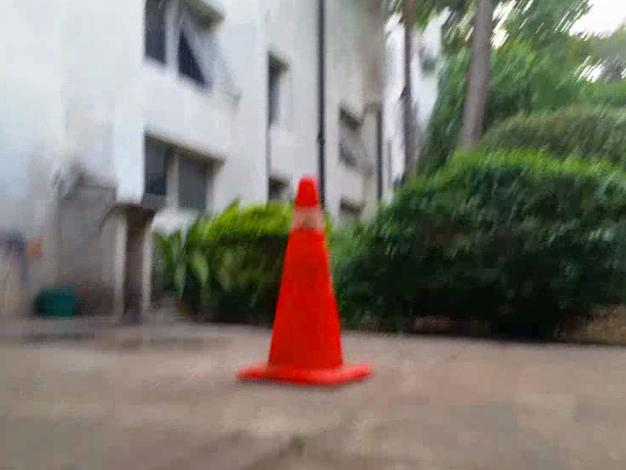0 cone: (234, 178, 373, 389)
